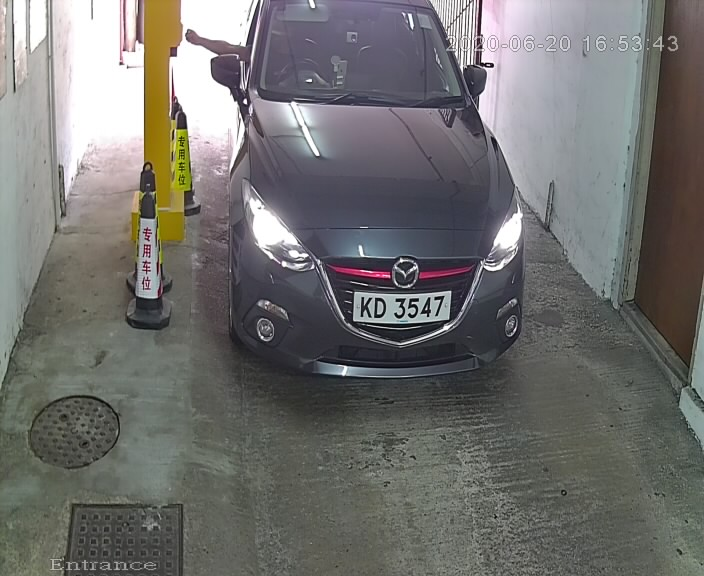privatecar: (203, 1, 537, 419)
